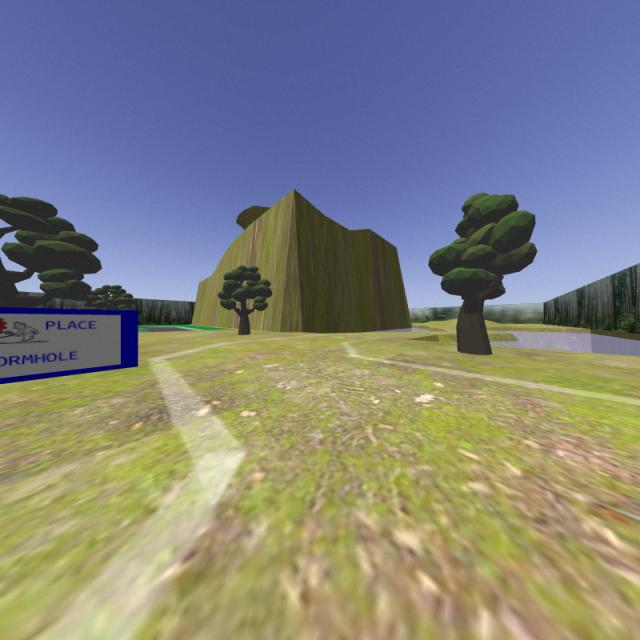clueboard: (0, 304, 144, 380)
